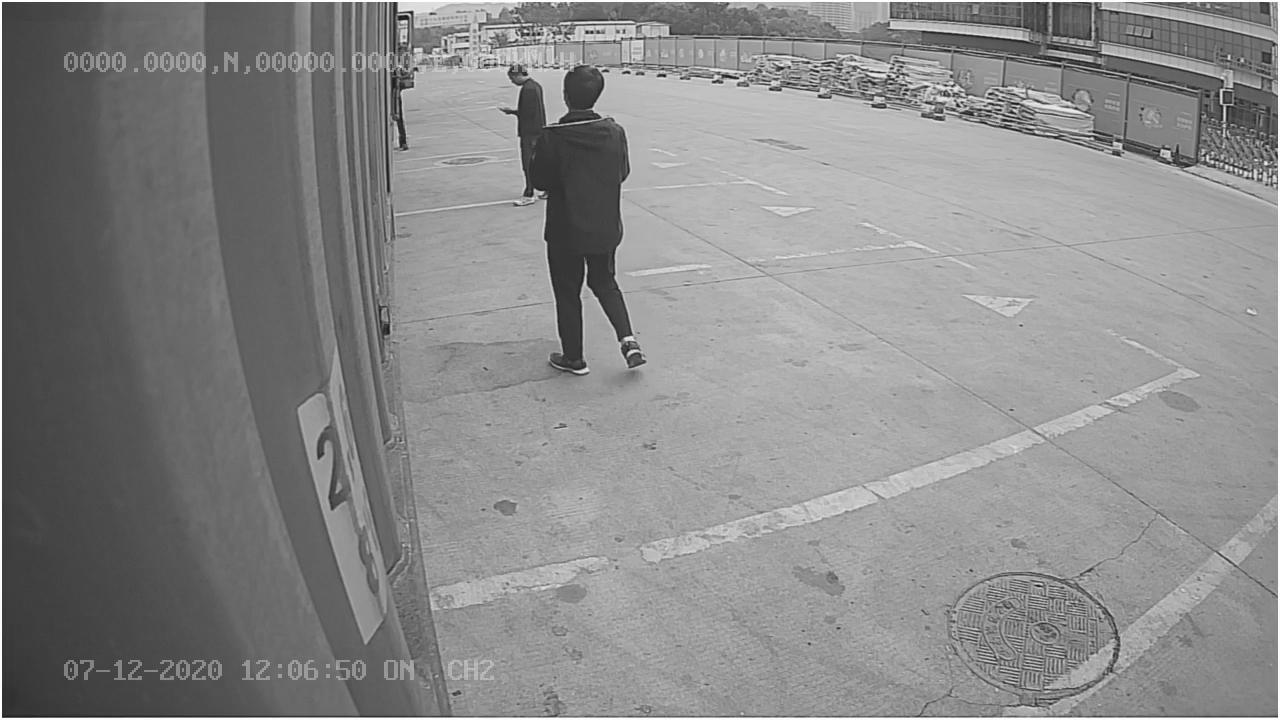person: (532, 69, 643, 373)
